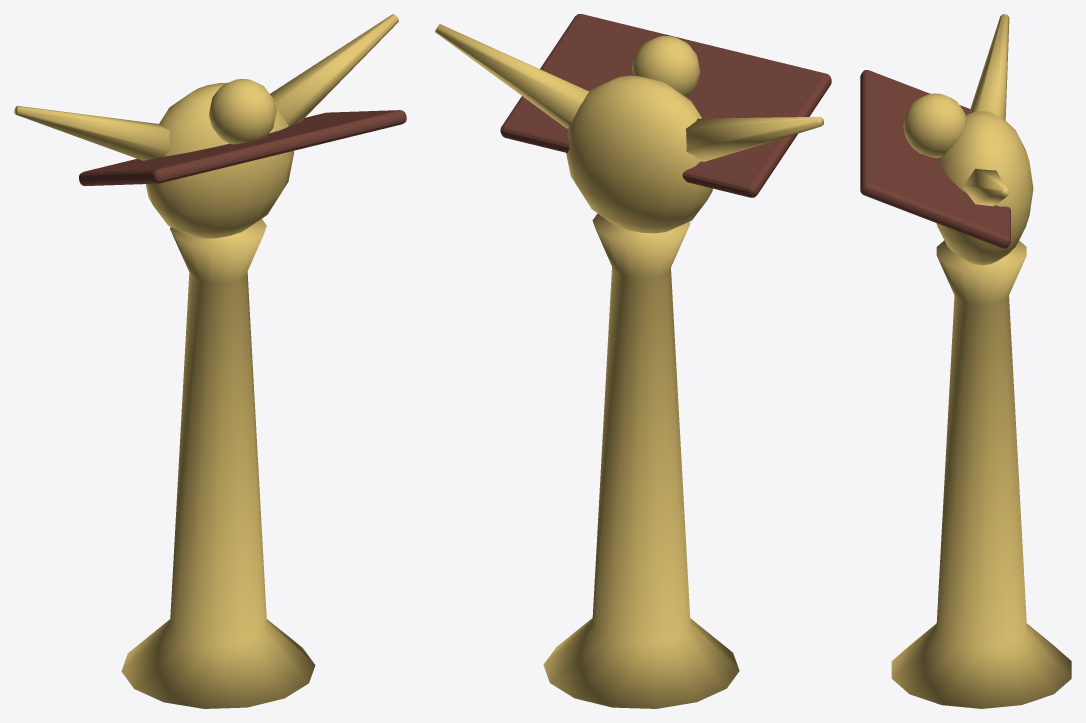
Rendered from lectern_eagle.glb.
3 views of the same model, side by side, from view 1: azimuth 30°, elevation 25°; view 2: azimuth 150°, elevation 25°; view 3: azimuth 270°, elevation 25° (orthographic). The views are drawn at different scales.
Visible parts, largest first — view 1: GD_lectern_eagle__m0, GD_lectern_eagle__m1; view 2: GD_lectern_eagle__m0, GD_lectern_eagle__m1; view 3: GD_lectern_eagle__m0, GD_lectern_eagle__m1.
Part boxes in pixels (x1,y1,x2,y2): GD_lectern_eagle__m0: (14, 14, 398, 708); GD_lectern_eagle__m1: (79, 110, 406, 185); GD_lectern_eagle__m0: (435, 24, 823, 708); GD_lectern_eagle__m1: (500, 14, 831, 197); GD_lectern_eagle__m0: (891, 14, 1071, 708); GD_lectern_eagle__m1: (860, 70, 1010, 248).
Size of the model in its own units: 0.9078 by 1.37 by 0.4582.
